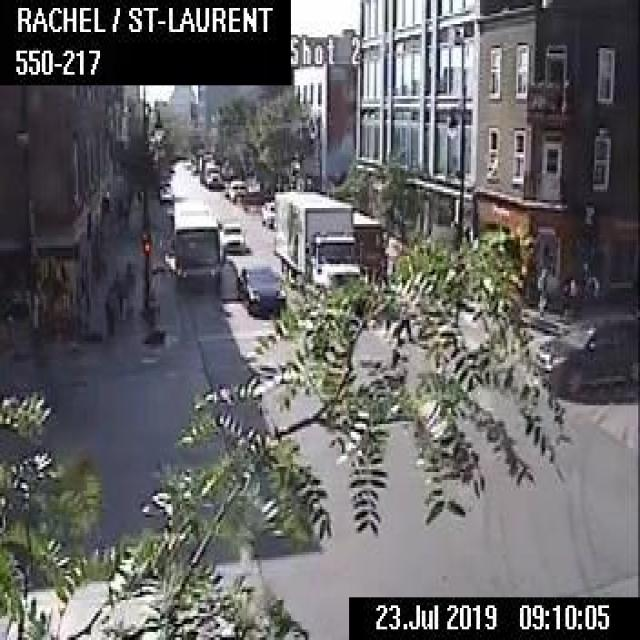bus: (170, 204, 220, 284)
pedestrian: (102, 272, 118, 344), (535, 248, 549, 317), (120, 256, 135, 320)
vehicle: (273, 188, 362, 300), (533, 312, 638, 395), (350, 207, 385, 282), (234, 266, 286, 316), (220, 222, 245, 251), (202, 161, 220, 186), (227, 178, 246, 201), (260, 199, 274, 224)
